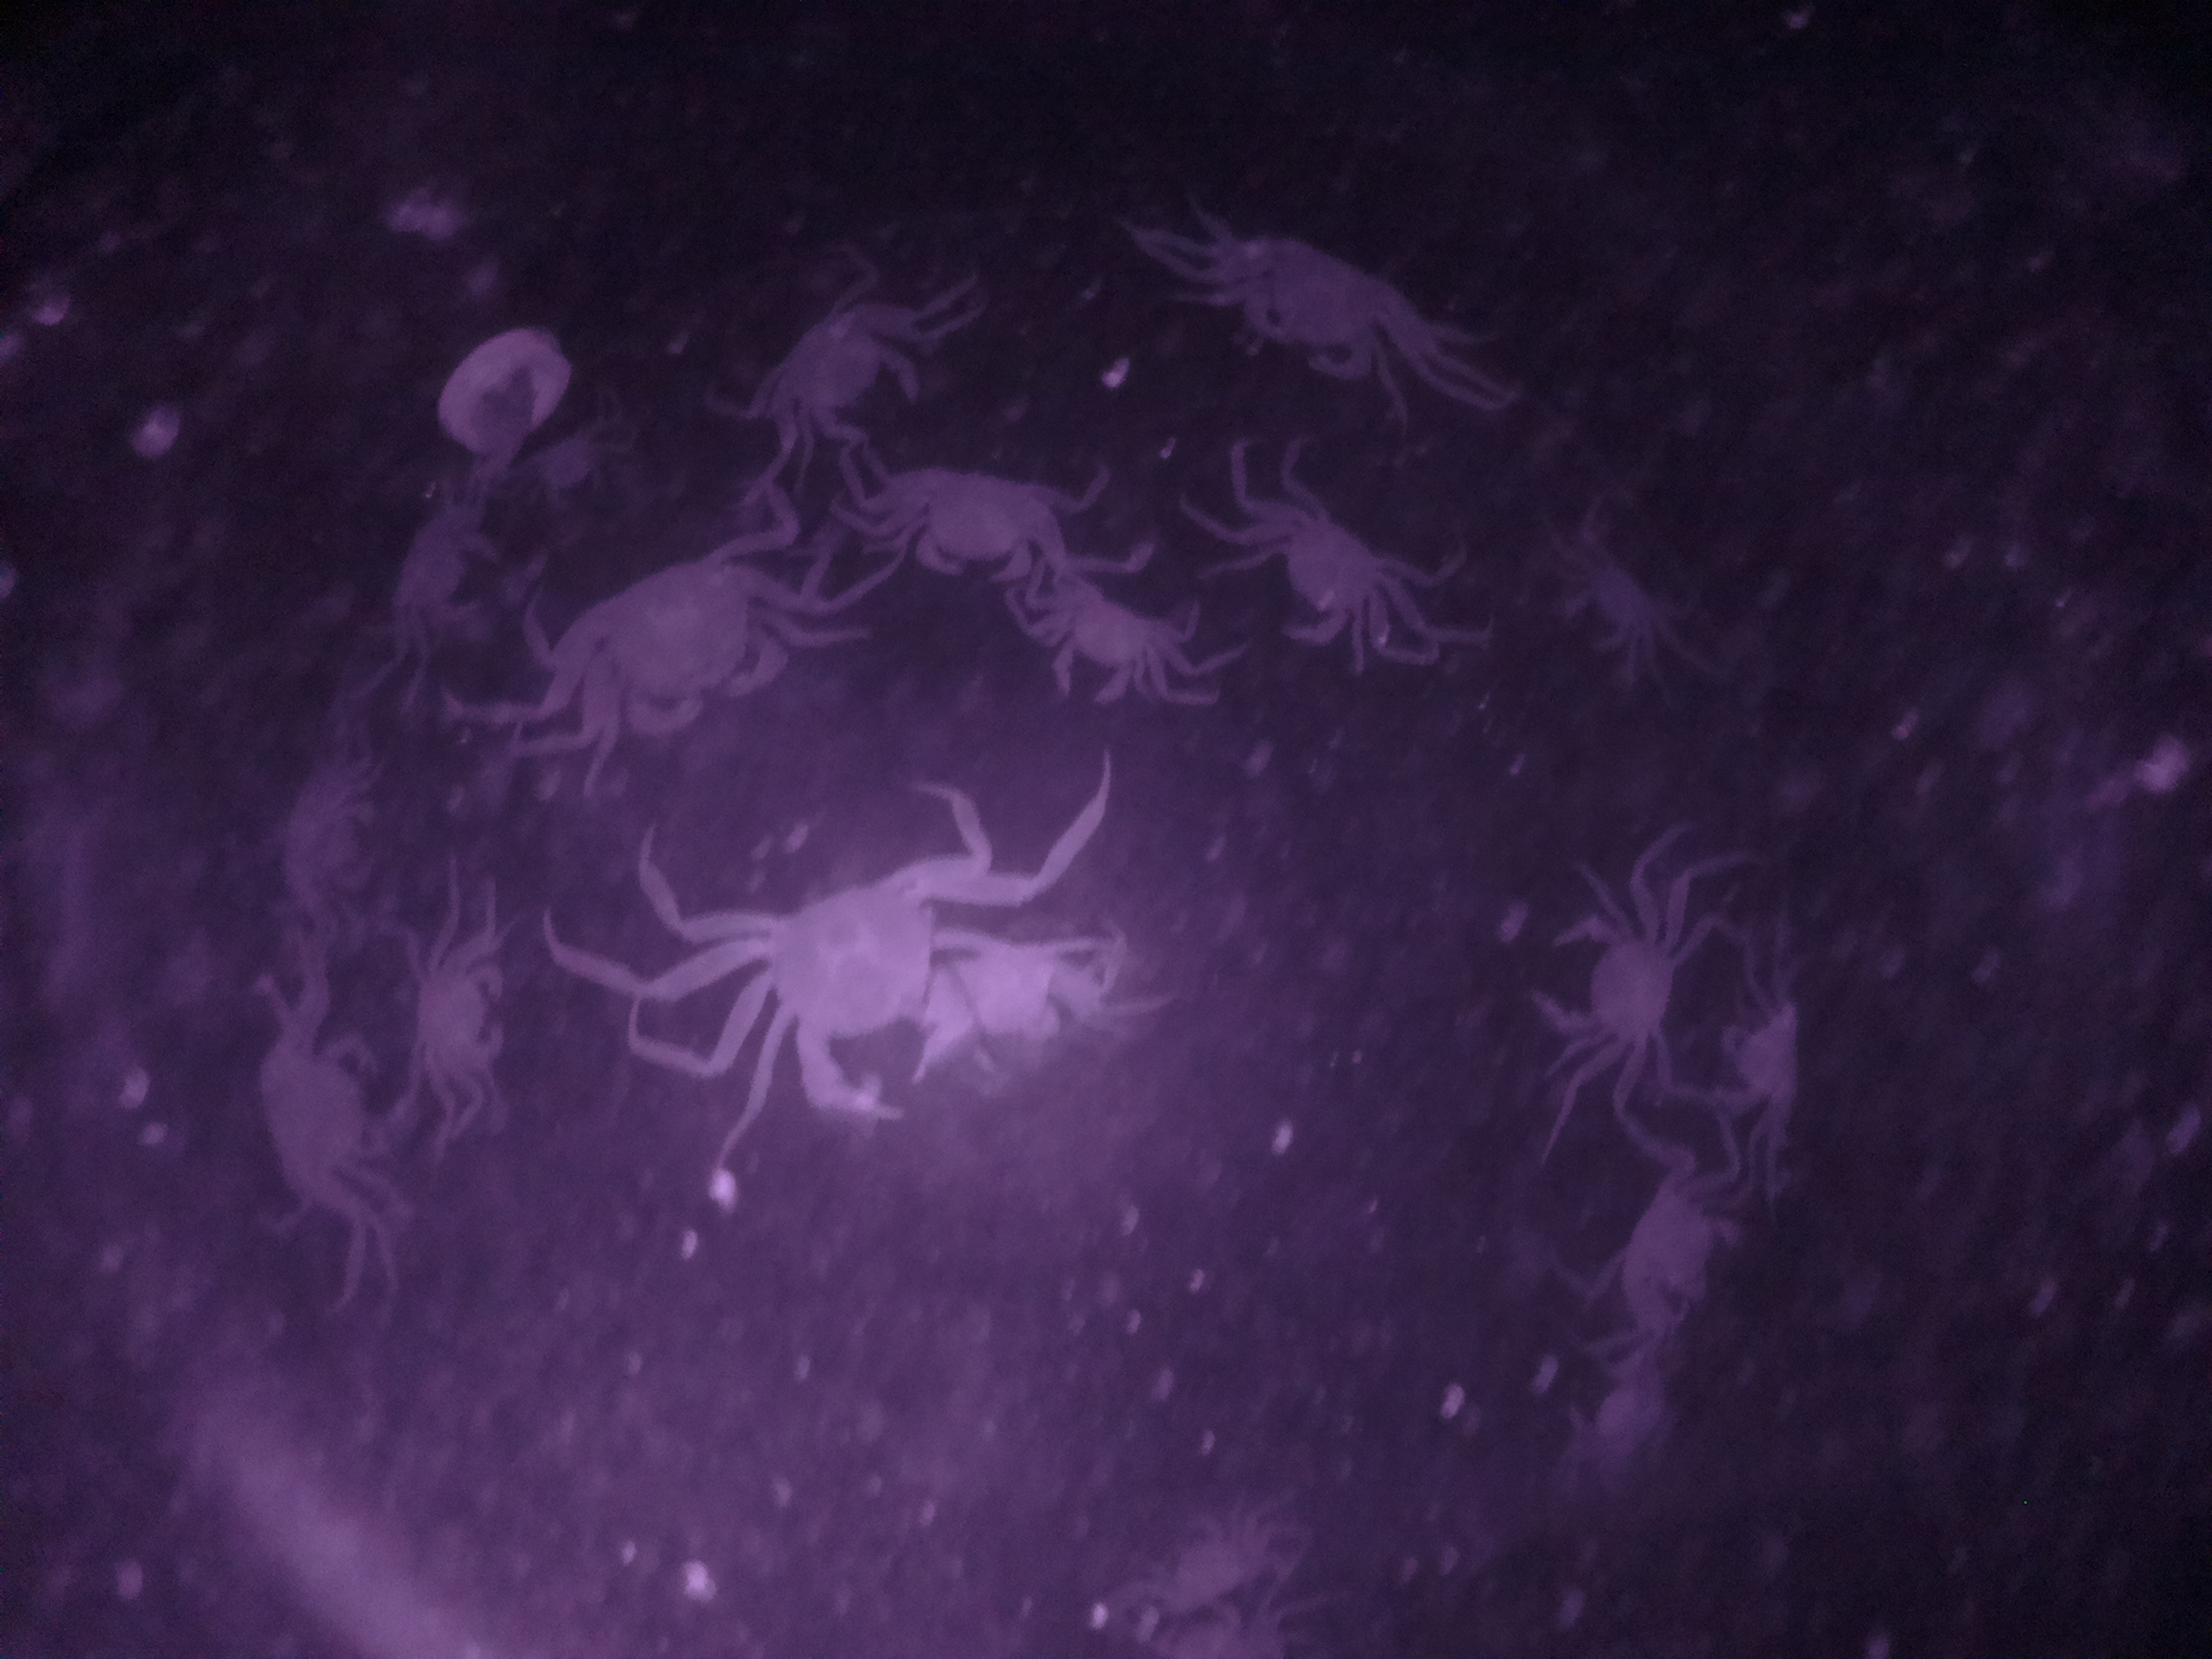Crab: (732, 849, 988, 1129), (549, 526, 801, 762), (1205, 227, 1432, 399), (1522, 890, 1698, 1080), (745, 291, 935, 457), (246, 1021, 397, 1220), (1226, 486, 1400, 655), (1588, 1175, 1742, 1349), (874, 462, 1069, 587), (371, 490, 510, 648), (1554, 523, 1688, 664), (395, 941, 524, 1086), (1035, 582, 1172, 716)
